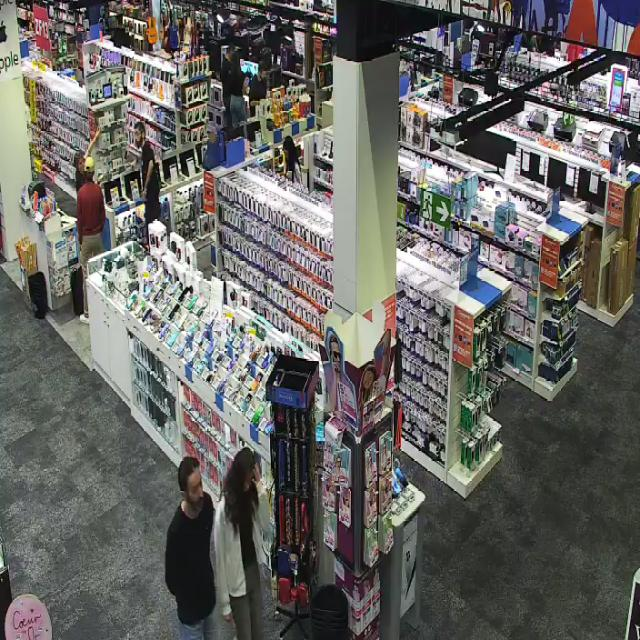hands: (251, 462, 261, 484), (223, 614, 231, 622)
person: (215, 447, 269, 639), (165, 457, 215, 639), (76, 157, 105, 322), (135, 122, 160, 234), (284, 136, 300, 182)
